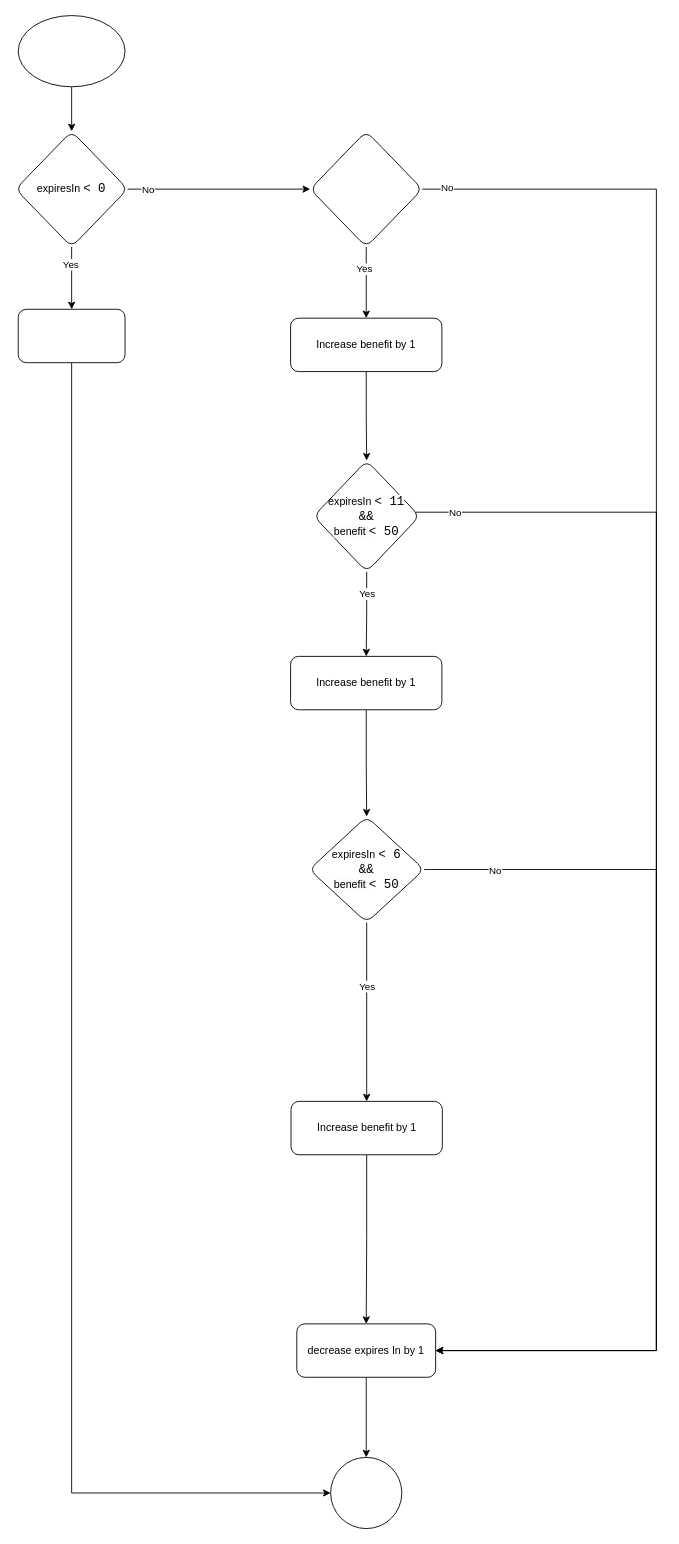
Some shapes in this 679 by 1544 pixel diagram are drawn without their labels. Here are the shapes that lost their labels. From the top down, the centre of each, then its label:
the point at 71,51: Start Process
the point at 365,188: benefit < 5 0
the point at 71,335: benefit = 0
the point at 366,1492: End Process
